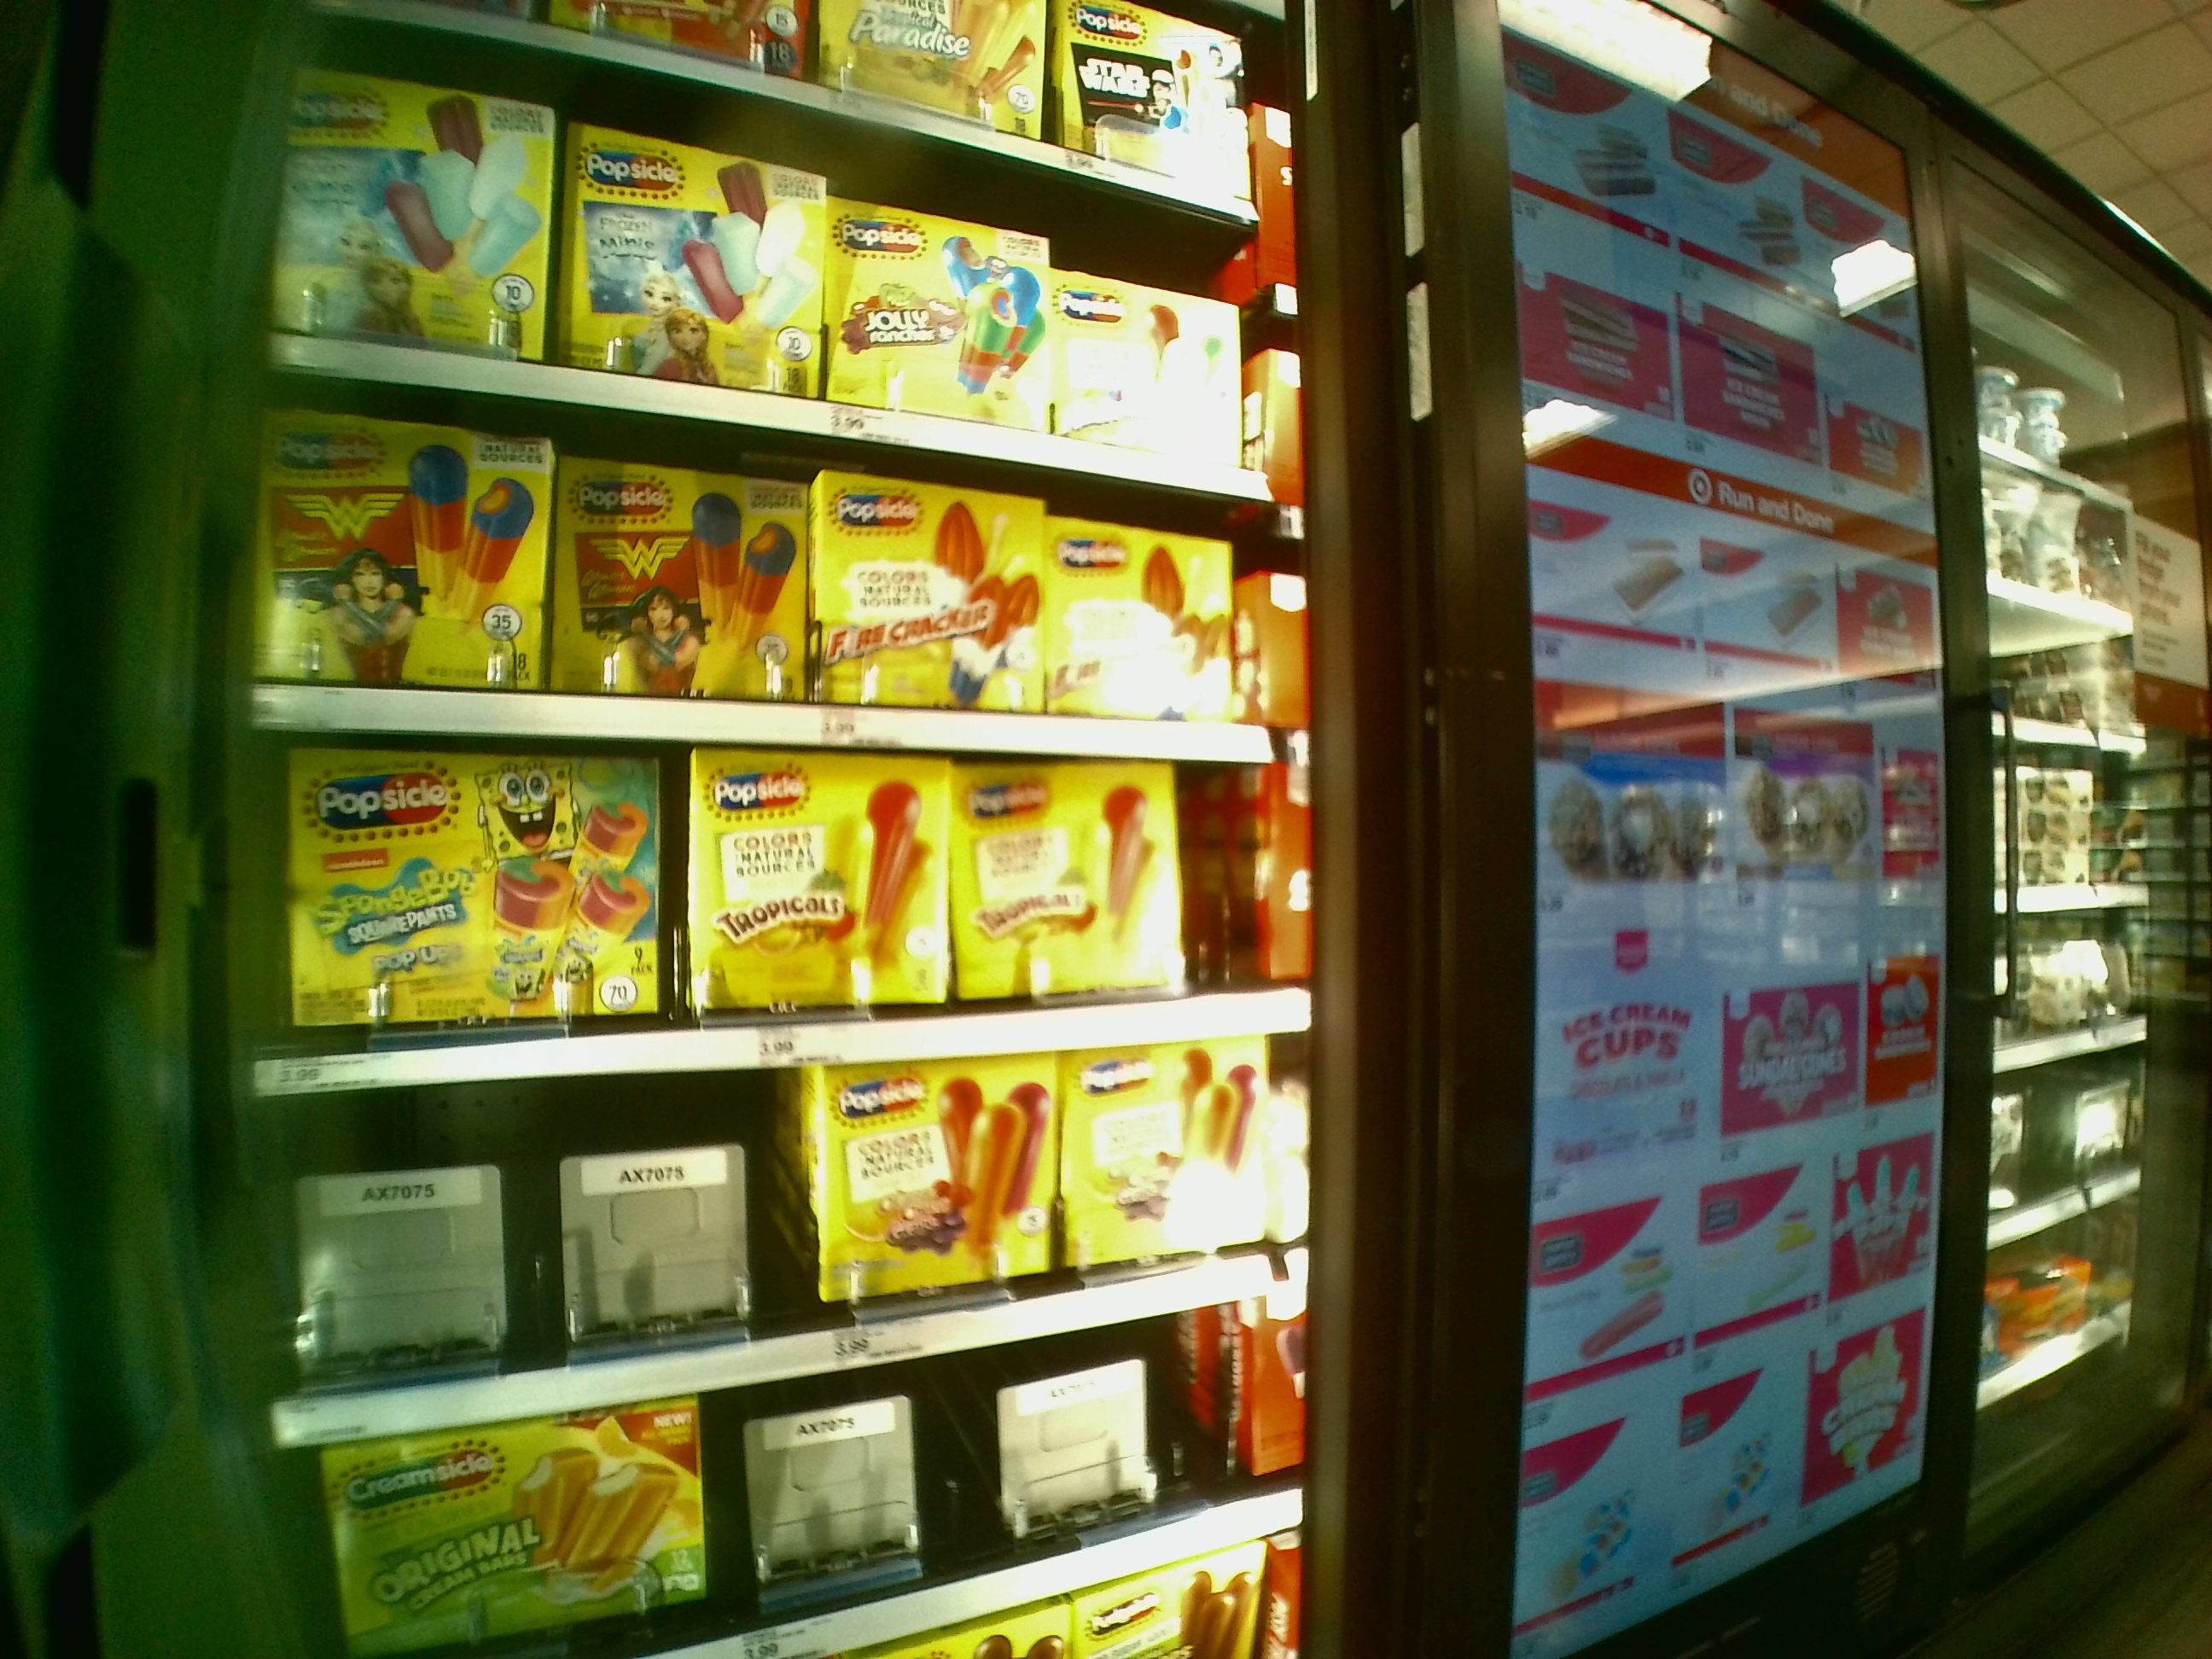shelf: (247, 141, 1271, 486), (254, 437, 1287, 769), (251, 1079, 1275, 1385), (254, 763, 1331, 1053)
